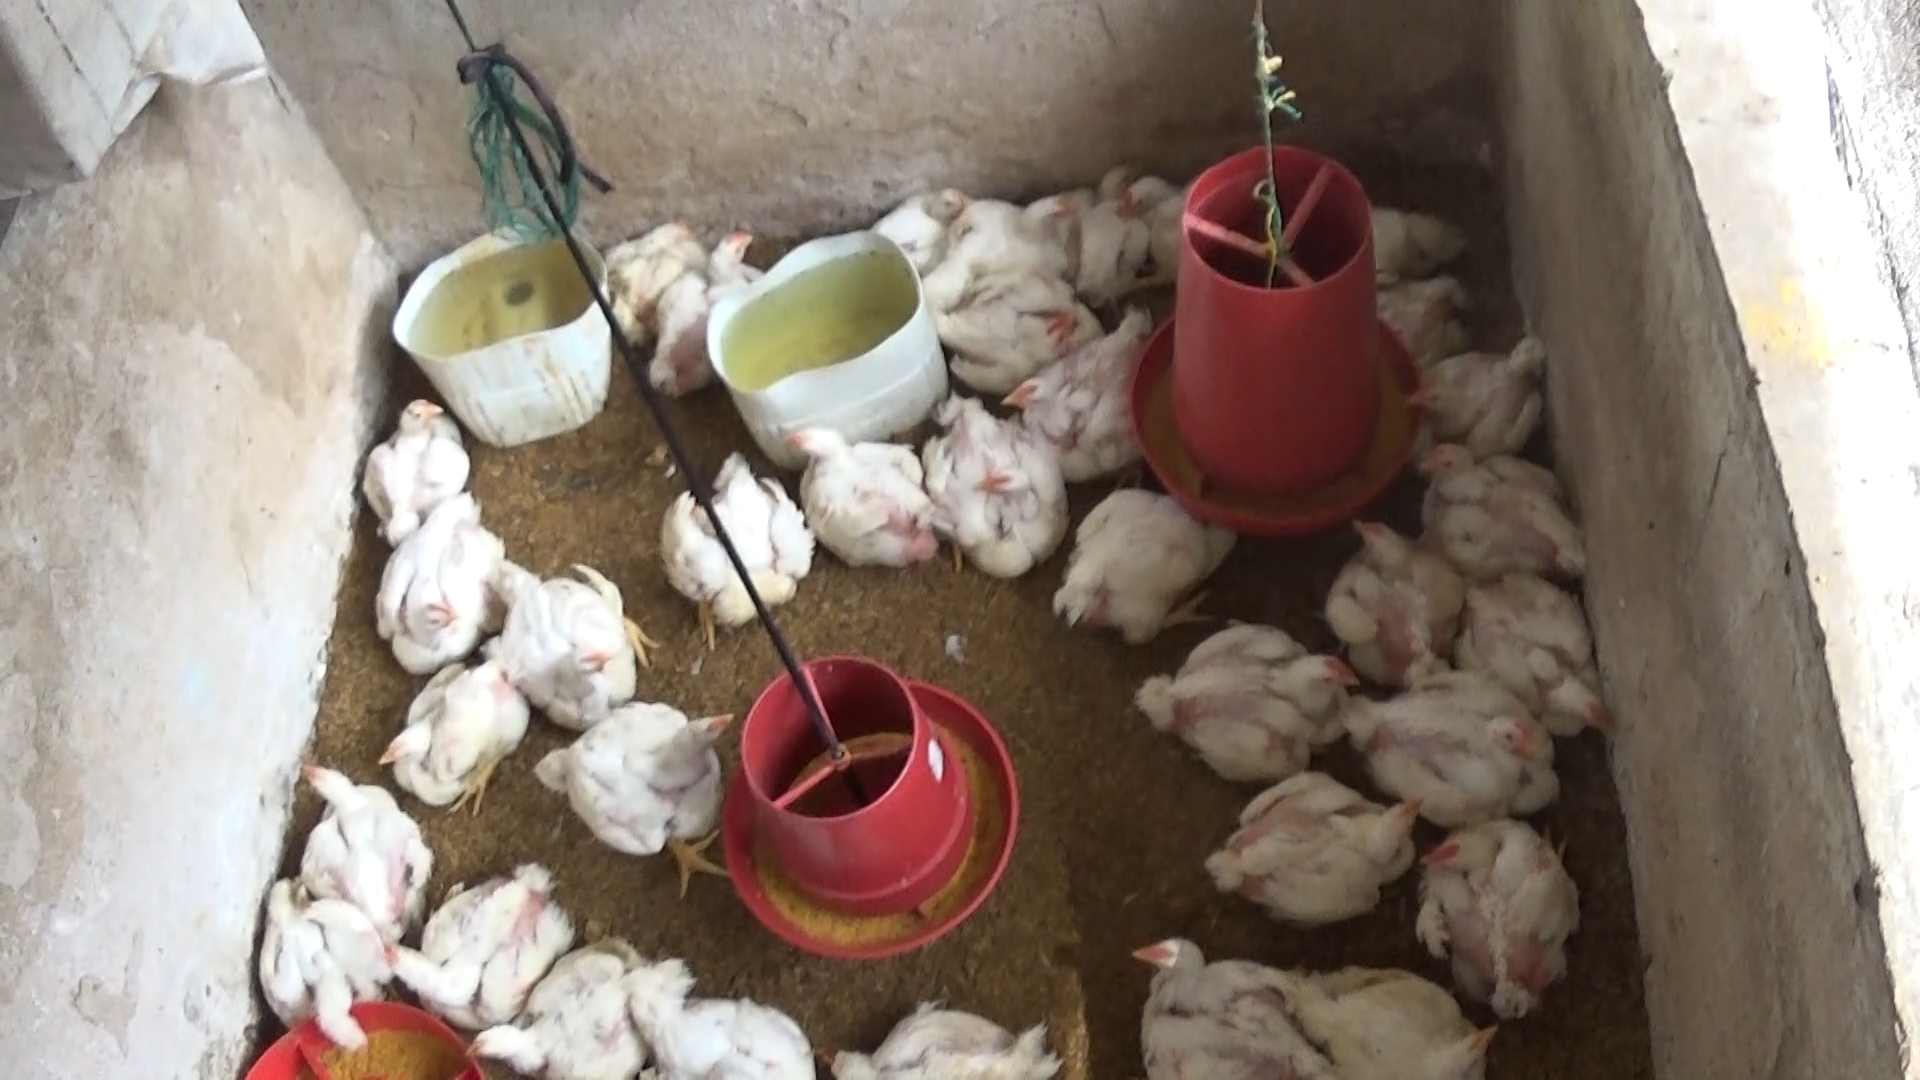Pollos: (514, 684, 742, 876), (1211, 762, 1425, 948), (1133, 611, 1360, 773), (1414, 812, 1582, 1025), (392, 848, 589, 1021), (1338, 671, 1563, 823), (1406, 422, 1597, 592), (1431, 576, 1625, 742), (1102, 927, 1311, 1080), (913, 377, 1065, 585), (655, 443, 816, 640), (1042, 481, 1232, 640), (465, 924, 653, 1080), (487, 551, 657, 719), (1276, 959, 1497, 1080), (1311, 513, 1462, 688), (615, 952, 822, 1080), (245, 877, 400, 1047), (293, 752, 431, 932), (372, 495, 502, 684), (782, 413, 934, 574), (1004, 314, 1153, 473), (382, 649, 521, 818), (640, 222, 767, 404), (822, 992, 1067, 1080), (351, 386, 465, 541), (942, 277, 1096, 390), (1411, 324, 1560, 440), (927, 191, 1083, 295), (589, 200, 702, 342), (1069, 156, 1151, 307), (877, 171, 975, 265), (1125, 171, 1215, 264)
